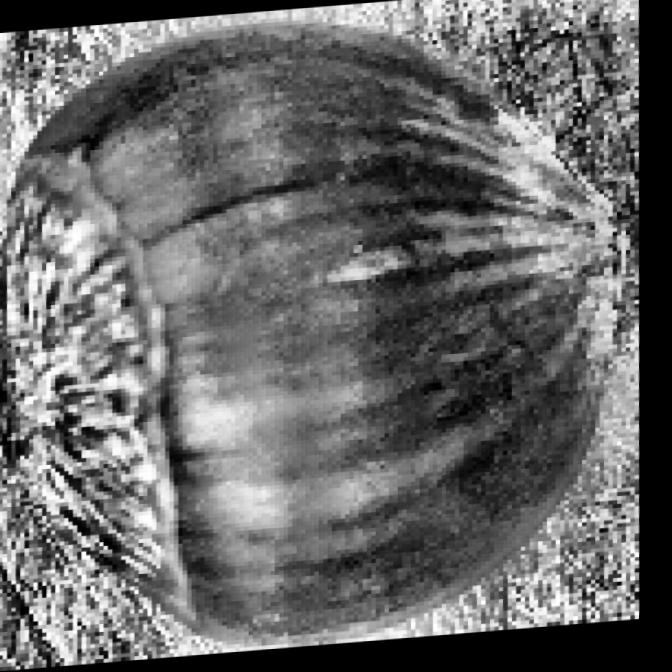qualityHazelnut: (0, 0, 668, 672)
